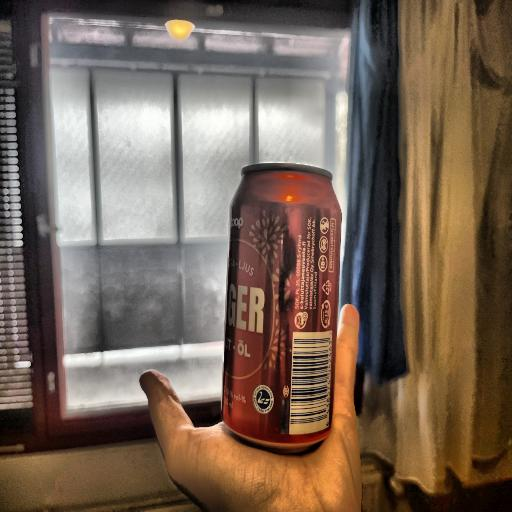coop_larger: (225, 162, 354, 443)
